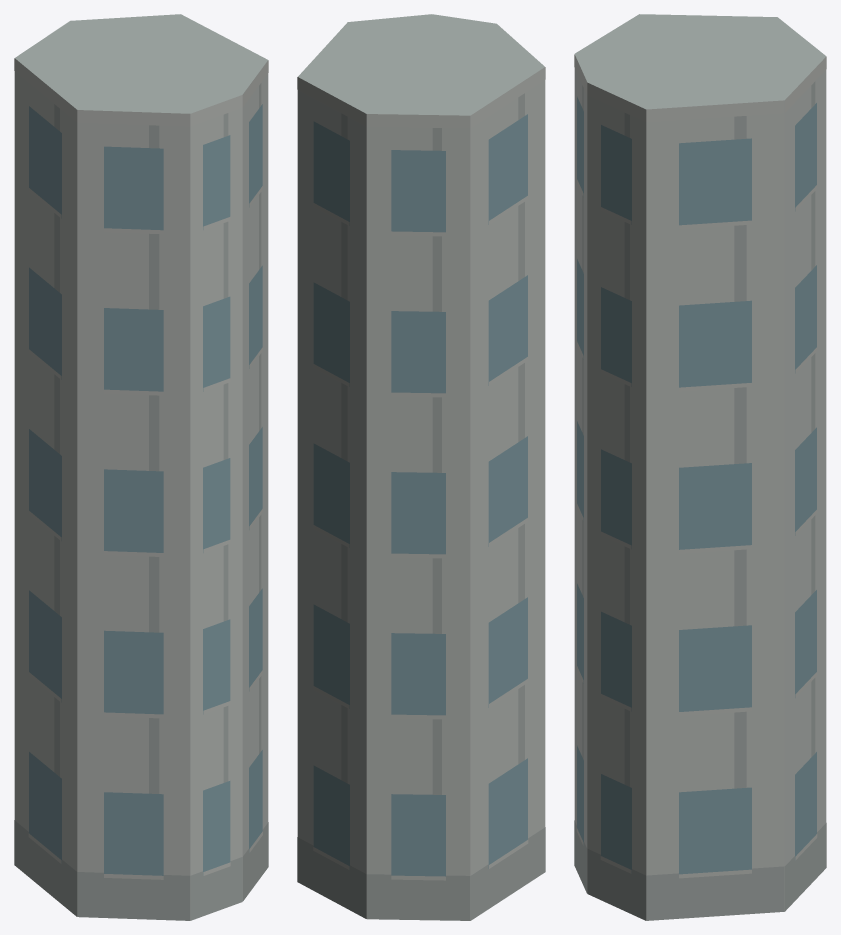
The model's file is survey-upis-32643687.glb.
3 views of the same model, side by side, from view 1: azimuth 30°, elevation 25°; view 2: azimuth 150°, elevation 25°; view 3: azimuth 270°, elevation 25° (orthographic).
Visible parts, largest first — view 1: survey-upis-32643687.tmp; view 2: survey-upis-32643687.tmp; view 3: survey-upis-32643687.tmp.
Boxes of the visible parts, x1=… form: survey-upis-32643687.tmp: x1=14, y1=14, x2=268, y2=920; survey-upis-32643687.tmp: x1=297, y1=14, x2=545, y2=920; survey-upis-32643687.tmp: x1=574, y1=14, x2=826, y2=920.
Size of the model in its own units: 3.86 by 15.25 by 4.3.
